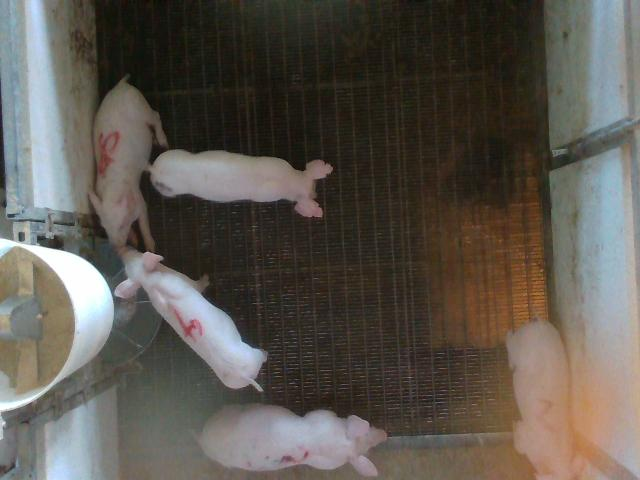pig-2: (506, 319, 575, 478)
pig-3: (199, 405, 386, 476)
pig-4: (116, 249, 266, 389)
pig-5: (89, 75, 168, 251)
